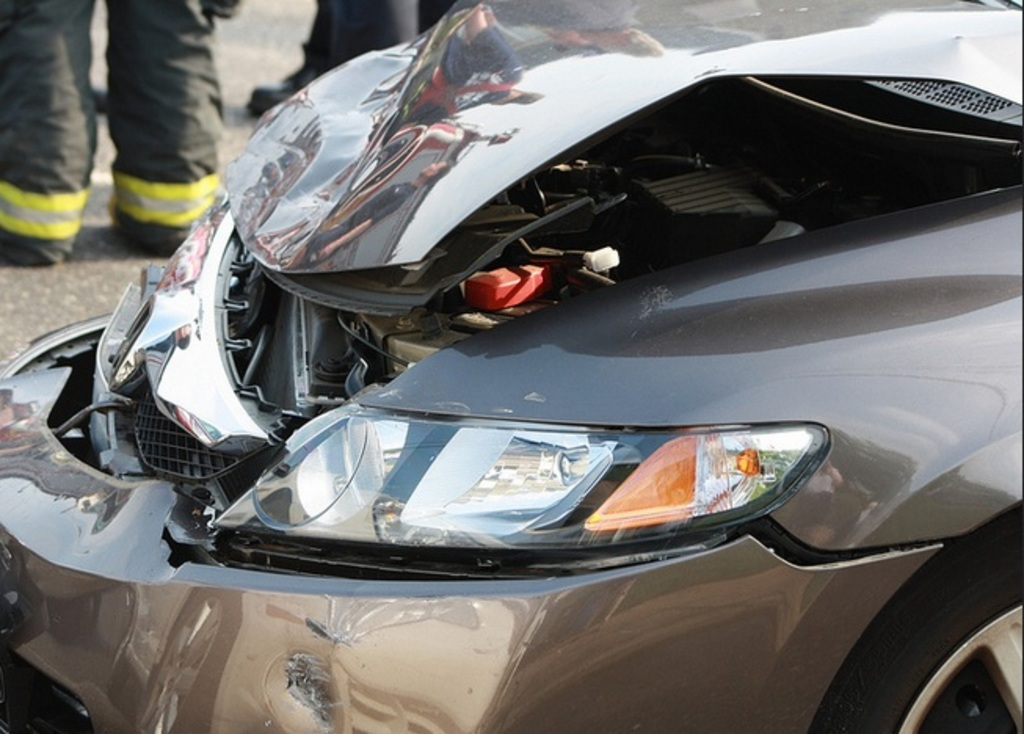Car: (0, 0, 1022, 732)
